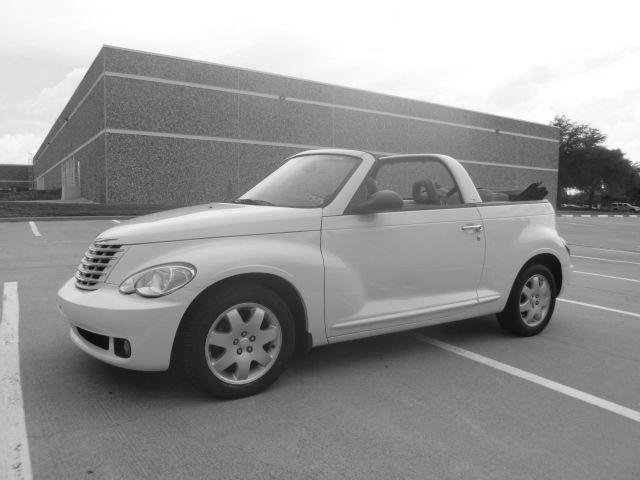car: (56, 146, 575, 403)
